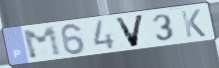3: (151, 13, 176, 43)
4: (92, 18, 119, 51)
6: (60, 22, 87, 56)
K: (179, 8, 208, 39)
M: (20, 25, 65, 61)
V: (113, 13, 147, 49)
